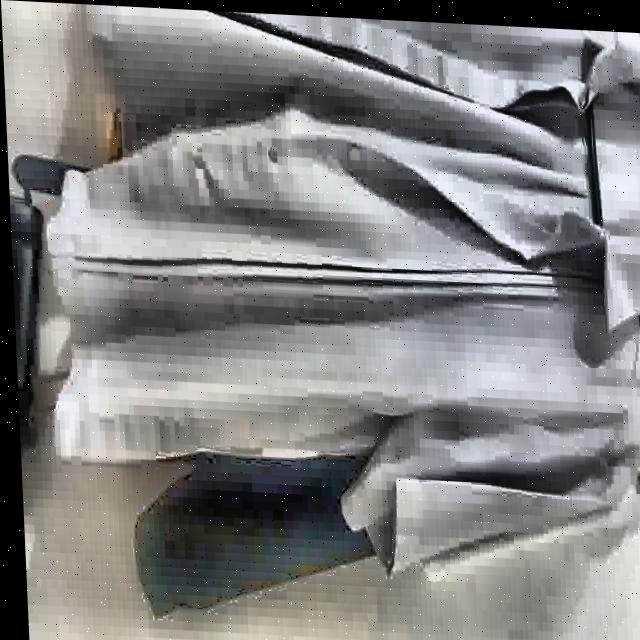clothes: (31, 2, 640, 593)
